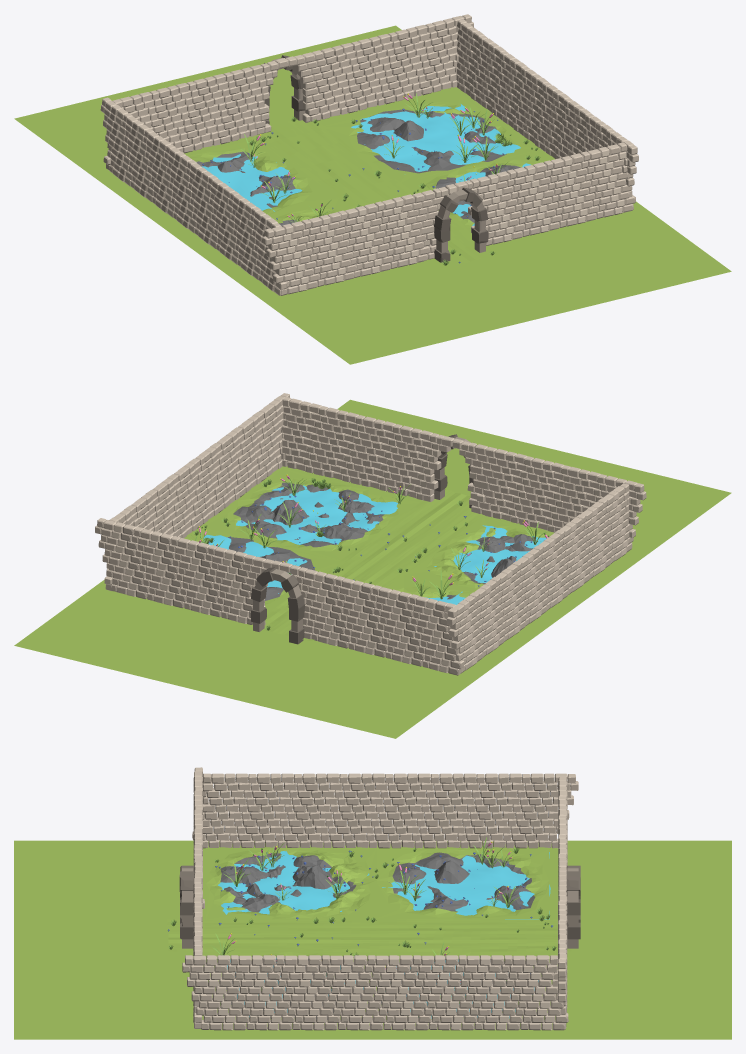
Rendered from Training_first_3.0 (1).fbx.
The picture shows the model from 3 angles, top to bottom: view 1: azimuth 30°, elevation 25°; view 2: azimuth 150°, elevation 25°; view 3: azimuth 270°, elevation 25°; orthographic projection. The views are drawn at different scales.
Parts seen in each view (by area): view 1: wall.001, the bigest Plane, Landscape.001, Landscape_plane.007, Landscape.005, Landscape_plane.005, Plane.003, Landscape.006, Plane.004; view 2: wall.001, the bigest Plane, Landscape.001, Landscape.004, Landscape_plane.008, Landscape_plane.006, Plane.005, Landscape.009, Landscape.005, Landscape_plane.007, Plane.006; view 3: the bigest Plane, wall.001, Landscape.001, Landscape_plane.005, Landscape.009, Landscape.006, Landscape_plane.006, Plane.005, Plane.003, Plane.006, Plane.004.
Boxes of the visible parts, left/top/right/bottom form: wall.001: left=100, top=14, right=638, bottom=295; the bigest Plane: left=14, top=25, right=731, bottom=364; Landscape.001: left=188, top=93, right=552, bottom=269; Landscape_plane.007: left=351, top=104, right=520, bottom=171; Landscape.005: left=357, top=109, right=506, bottom=173; Landscape_plane.005: left=202, top=154, right=302, bottom=211; Plane.003: left=434, top=187, right=488, bottom=262; Landscape.006: left=196, top=151, right=295, bottom=207; Plane.004: left=436, top=190, right=485, bottom=252; wall.001: left=95, top=393, right=646, bottom=675; the bigest Plane: left=14, top=399, right=731, bottom=738; Landscape.001: left=187, top=468, right=553, bottom=641; Landscape.004: left=233, top=482, right=384, bottom=547; Landscape_plane.008: left=236, top=484, right=397, bottom=544; Landscape_plane.006: left=434, top=525, right=546, bottom=582; Plane.005: left=251, top=567, right=304, bottom=644; Landscape.009: left=463, top=534, right=536, bottom=584; Landscape.005: left=227, top=537, right=315, bottom=600; Landscape_plane.007: left=203, top=534, right=307, bottom=593; Plane.006: left=253, top=569, right=302, bottom=631; the bigest Plane: left=14, top=840, right=731, bottom=1039; wall.001: left=182, top=767, right=578, bottom=1030; Landscape.001: left=166, top=848, right=571, bottom=1024; Landscape_plane.005: left=382, top=852, right=550, bottom=919; Landscape.009: left=220, top=853, right=356, bottom=912; Landscape.006: left=389, top=852, right=535, bottom=911; Landscape_plane.006: left=218, top=851, right=369, bottom=914; Plane.005: left=566, top=865, right=580, bottom=939; Plane.003: left=179, top=865, right=194, bottom=939; Plane.006: left=567, top=867, right=578, bottom=948; Plane.004: left=182, top=867, right=193, bottom=948.
Size of the model in its own units: 2465 by 450 by 3759.
